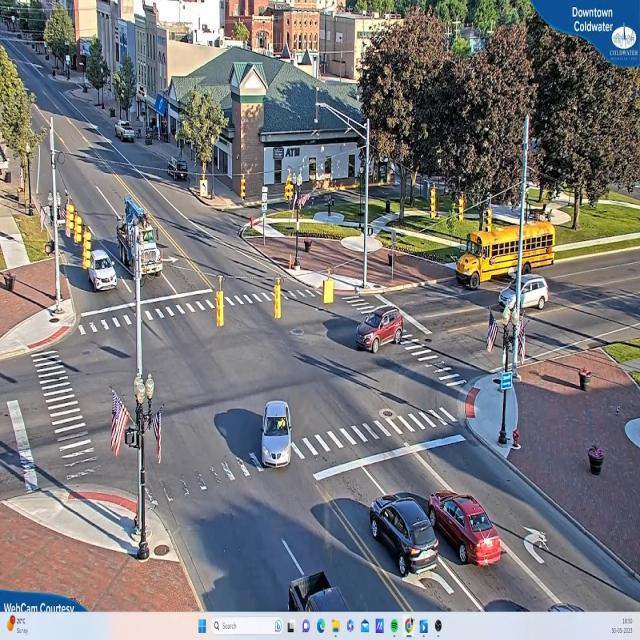bus: (455, 225, 556, 290)
car: (368, 492, 442, 578), (427, 491, 506, 569), (288, 573, 346, 614), (356, 307, 404, 353), (261, 400, 292, 468), (498, 276, 548, 314), (86, 248, 120, 294), (117, 121, 137, 145)
truck: (115, 190, 162, 280)
